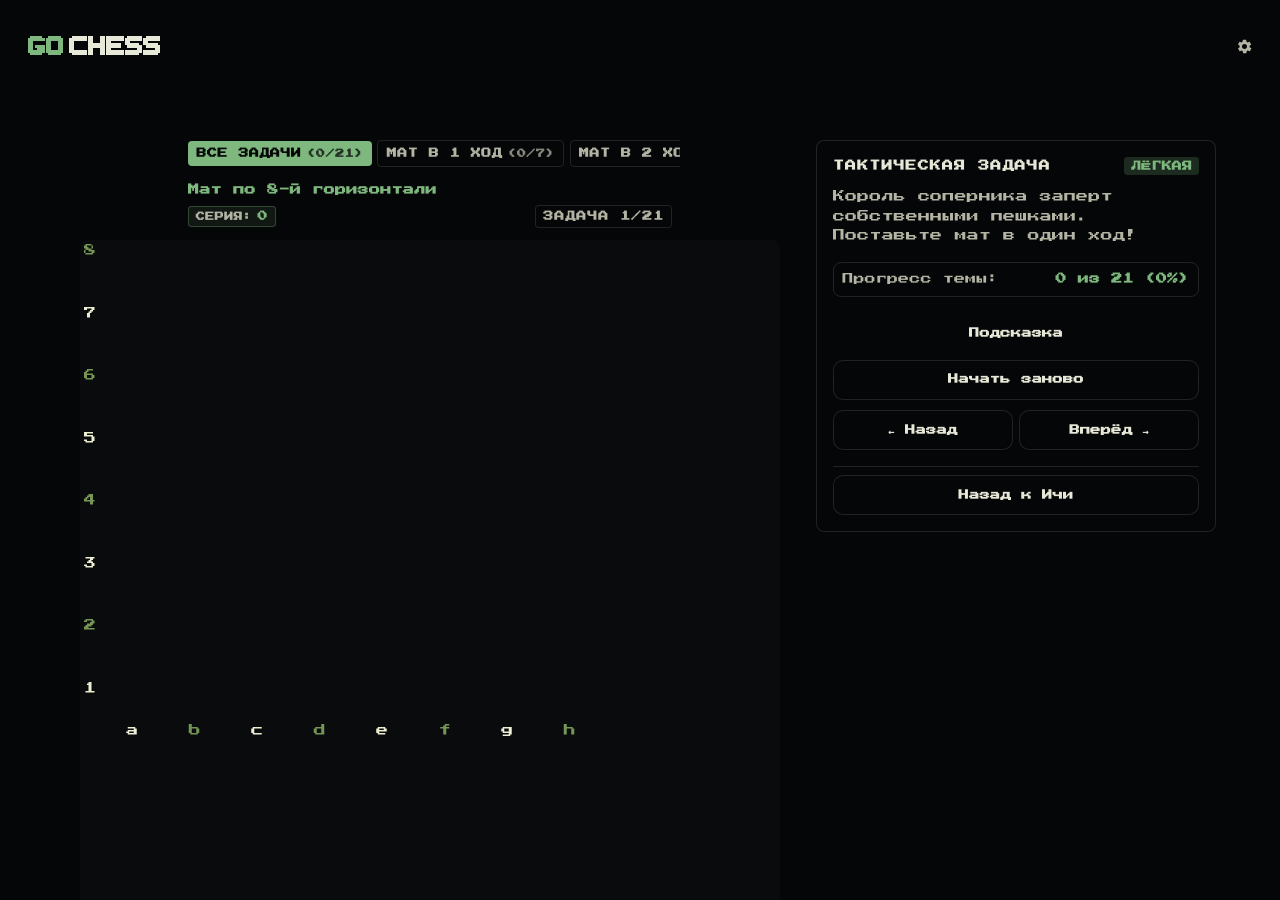
IchiPuzzlesPage › shows 2-level hints on consecutive hint button clicks
Click the button "Подсказка": click(1016, 333) [833,313,1199,353]
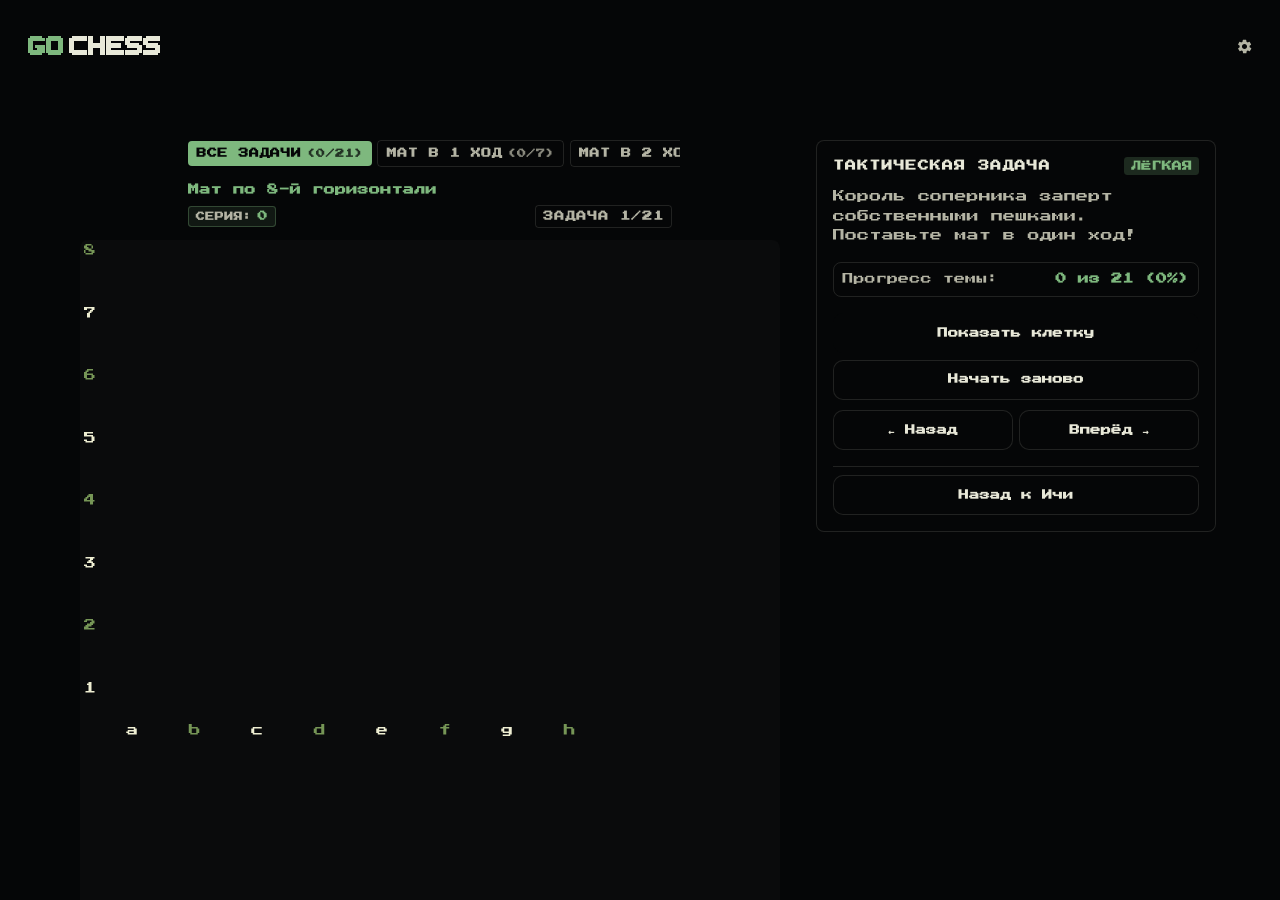
Expected: the button "Показать клетку" is shown
// Level 2: click again
Click the button "Показать клетку": click(1016, 333) [833,313,1199,353]
(page scrolled)
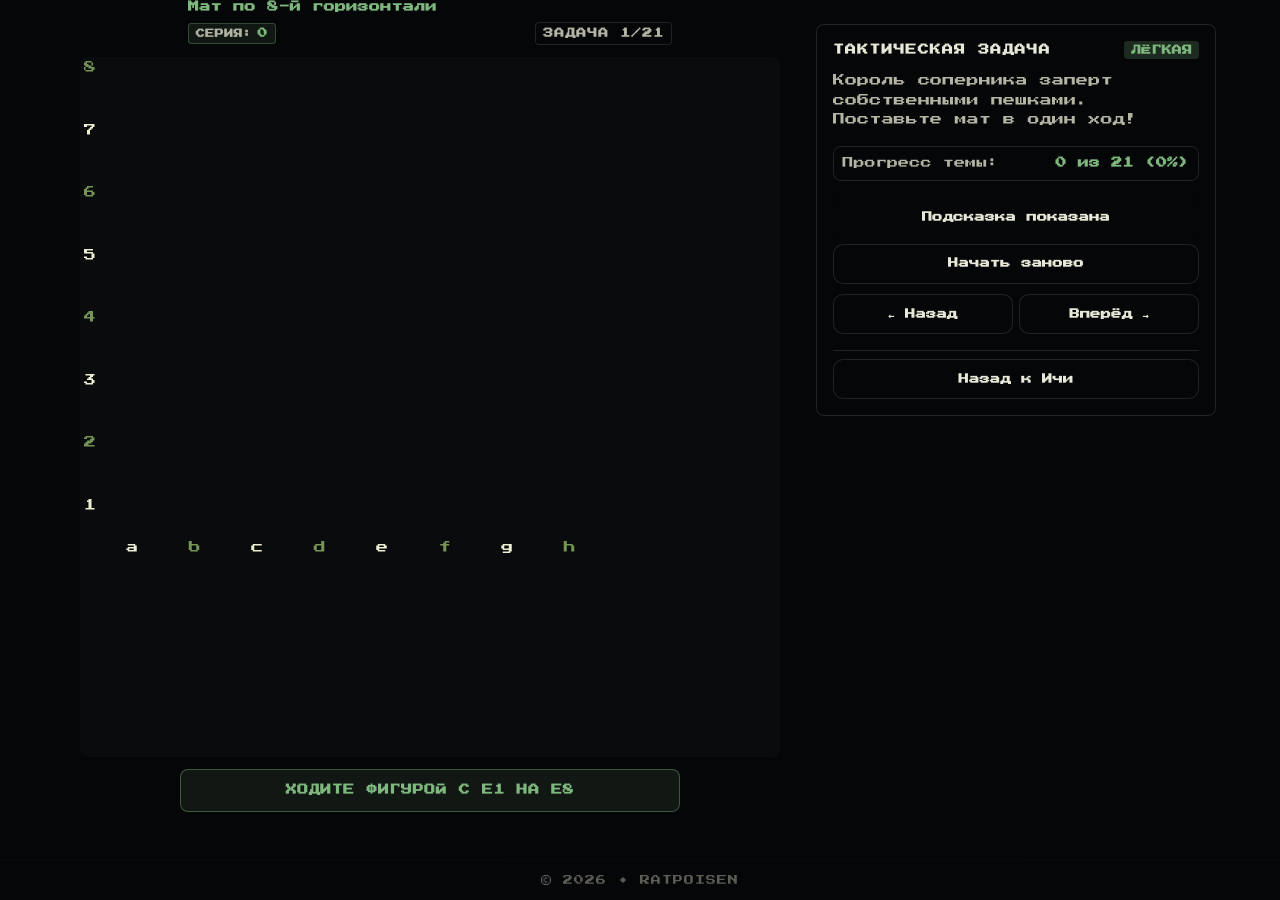
Expected: the text "Ходите фигурой с E1 на E8" is shown, [286,784,574,795]
